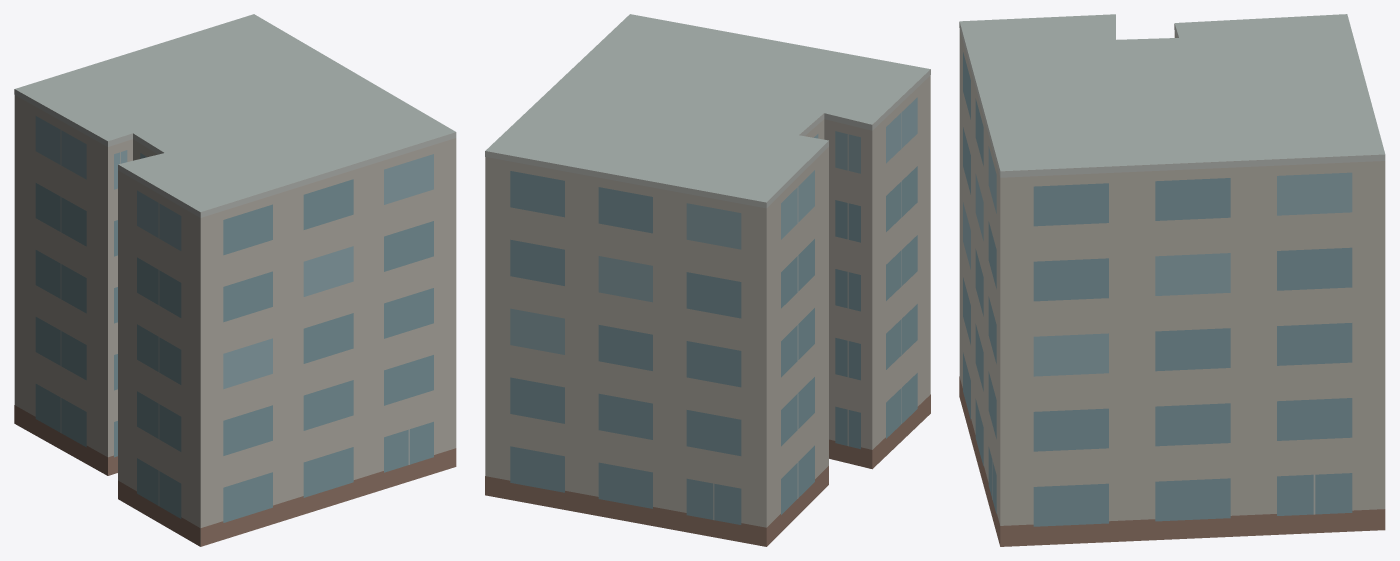
File: survey-upis-32746367.glb
The picture shows the model from 3 angles, left to right: view 1: azimuth 30°, elevation 25°; view 2: azimuth 150°, elevation 25°; view 3: azimuth 270°, elevation 25°; orthographic projection. The views are drawn at different scales.
Parts seen in each view (by area): view 1: survey-upis-32746367.tmp; view 2: survey-upis-32746367.tmp; view 3: survey-upis-32746367.tmp.
Boxes of the visible parts, bbox=[...] form: survey-upis-32746367.tmp: bbox=[14, 14, 456, 546]; survey-upis-32746367.tmp: bbox=[485, 14, 930, 546]; survey-upis-32746367.tmp: bbox=[959, 14, 1385, 546].
Size of the model in its own units: 12.77 by 14.2 by 14.61.
